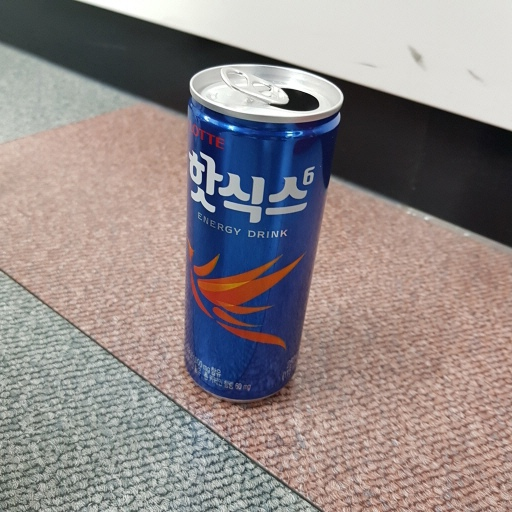Metal_0: (180, 63, 345, 405)
